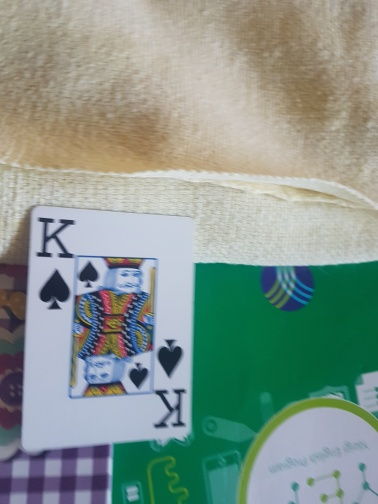king: (20, 205, 194, 450)
